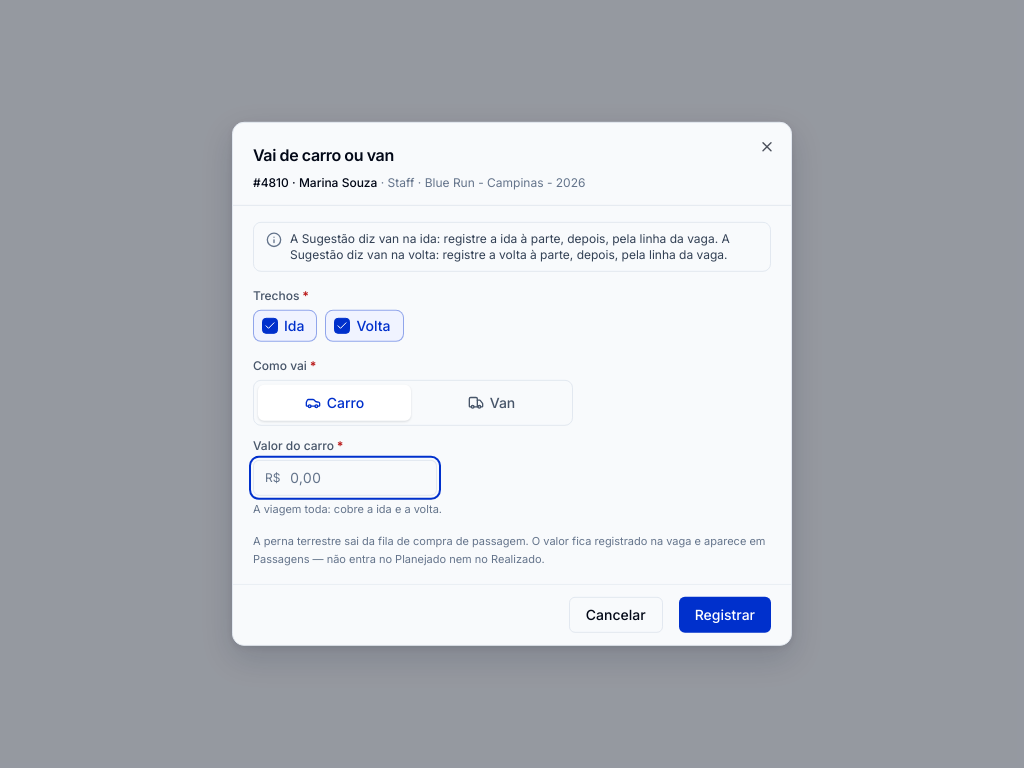
it: Diálogo 'Vai de carro ou van' › carro pede só o valor ('Valor do carro'); sem empresa na tela
Step 1. Click the button with test id "terrestre-salvar" → (725, 615), box [679,597,771,633]
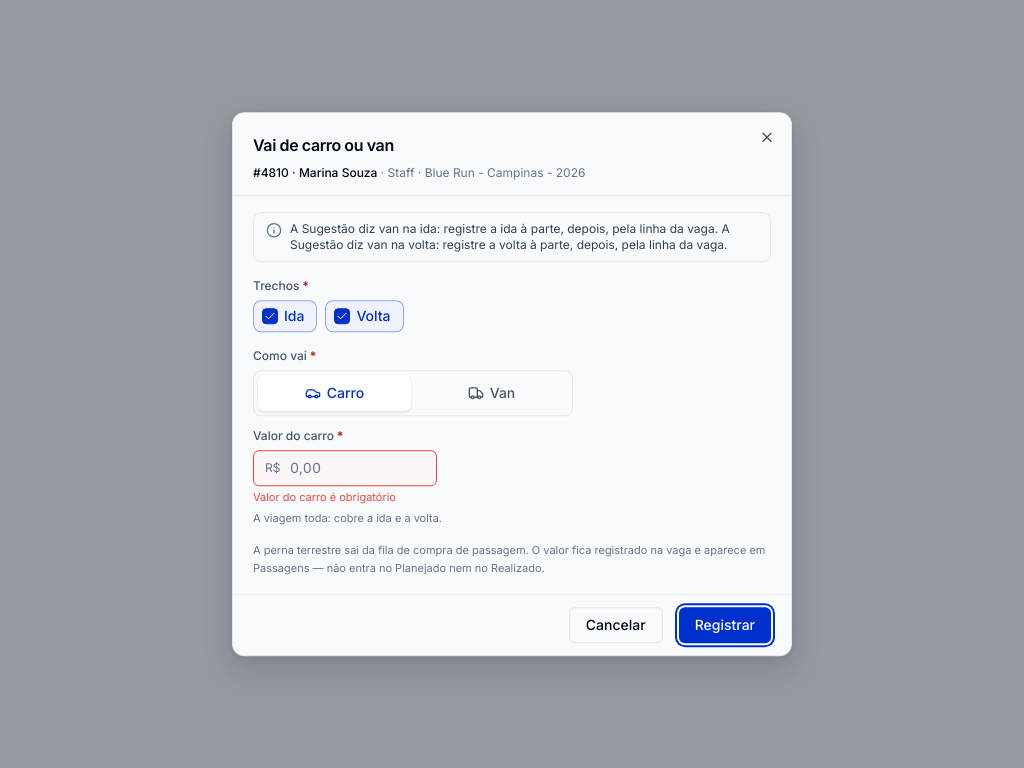
Check: the text "Valor do carro é obrigatório" is shown, box [253,490,396,504]
